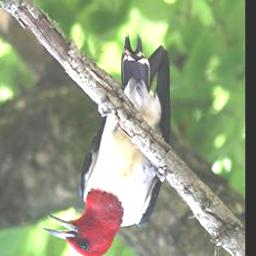Woodpecker: (39, 32, 177, 256)
